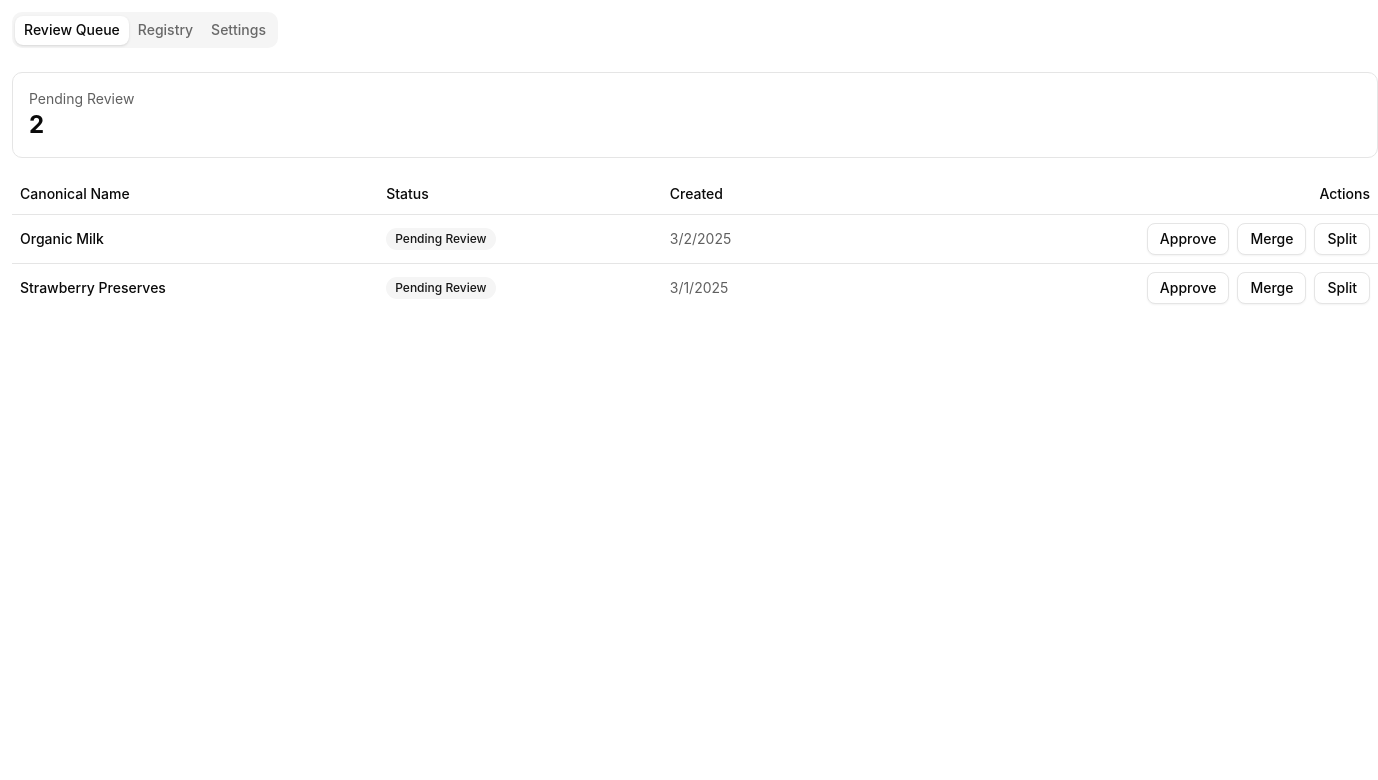
Scenario: NormalizedDescriptions settings tab › preview impact shows panel with deltas
Click the tab "Settings": (239, 30) [202,16,275,44]
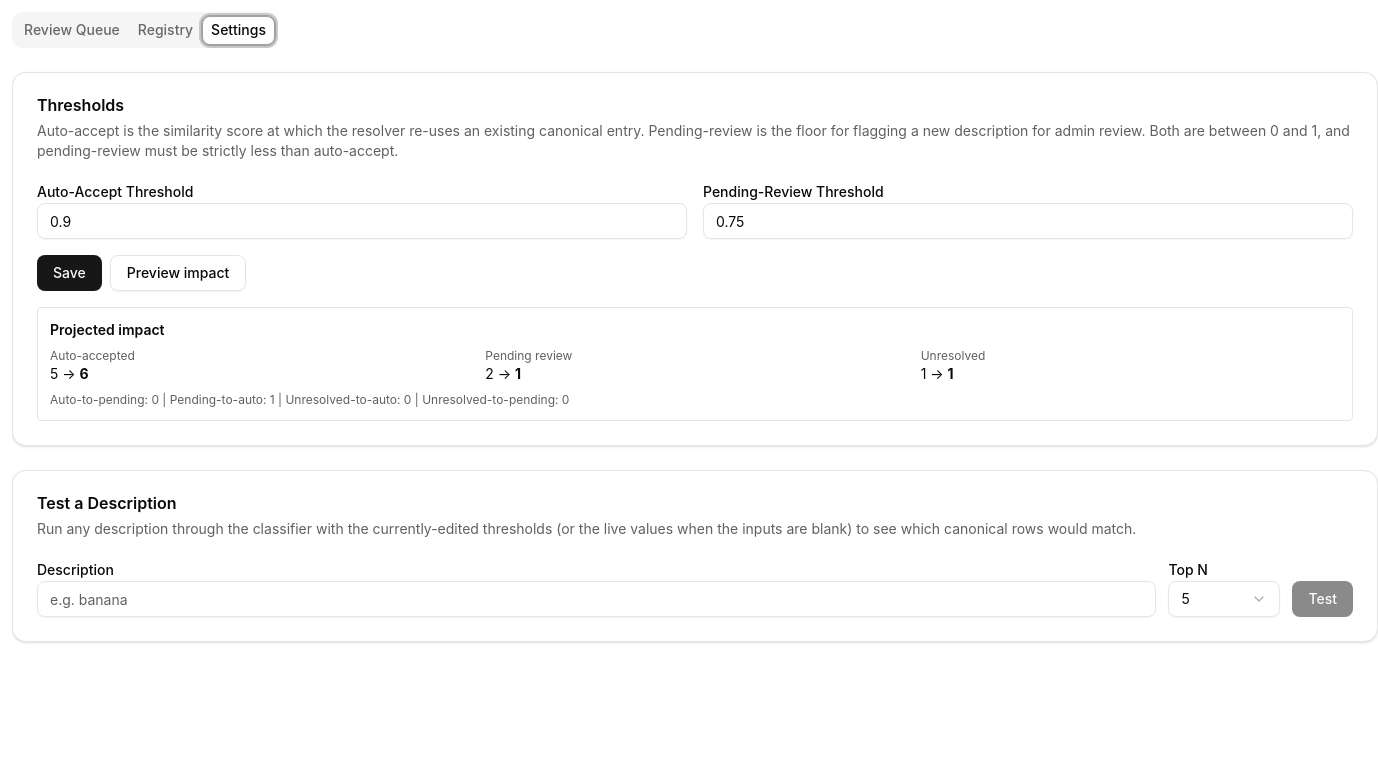
expect the element with test id "preview-impact-panel" is shown: met, box [37,307,1353,421]
expect the text "Pending-to-auto: 1" is shown: met, box [50,392,569,407]
